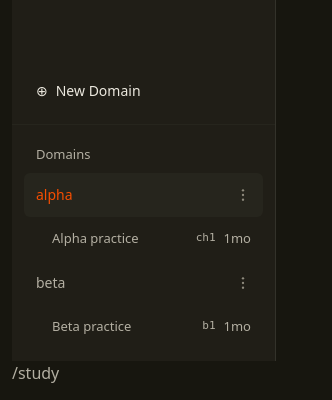
Scenario: Sidebar domain menu › synchronizes domain/chapter on session click and keeps the transcript route
The width and height of the screenshot is (332, 400).
Click the link "Beta practice b1 1mo" at (92, 326), box top-left (52, 317), bottom-right (251, 335)
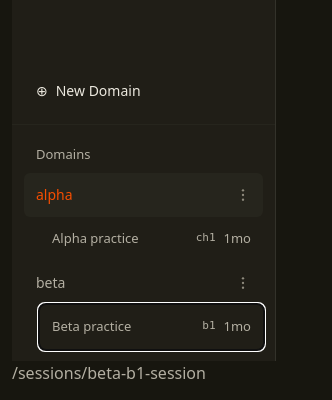
Result: the text with test id "location" reads "/sessions/beta-b1-session" at top-left (12, 362), bottom-right (206, 384)
